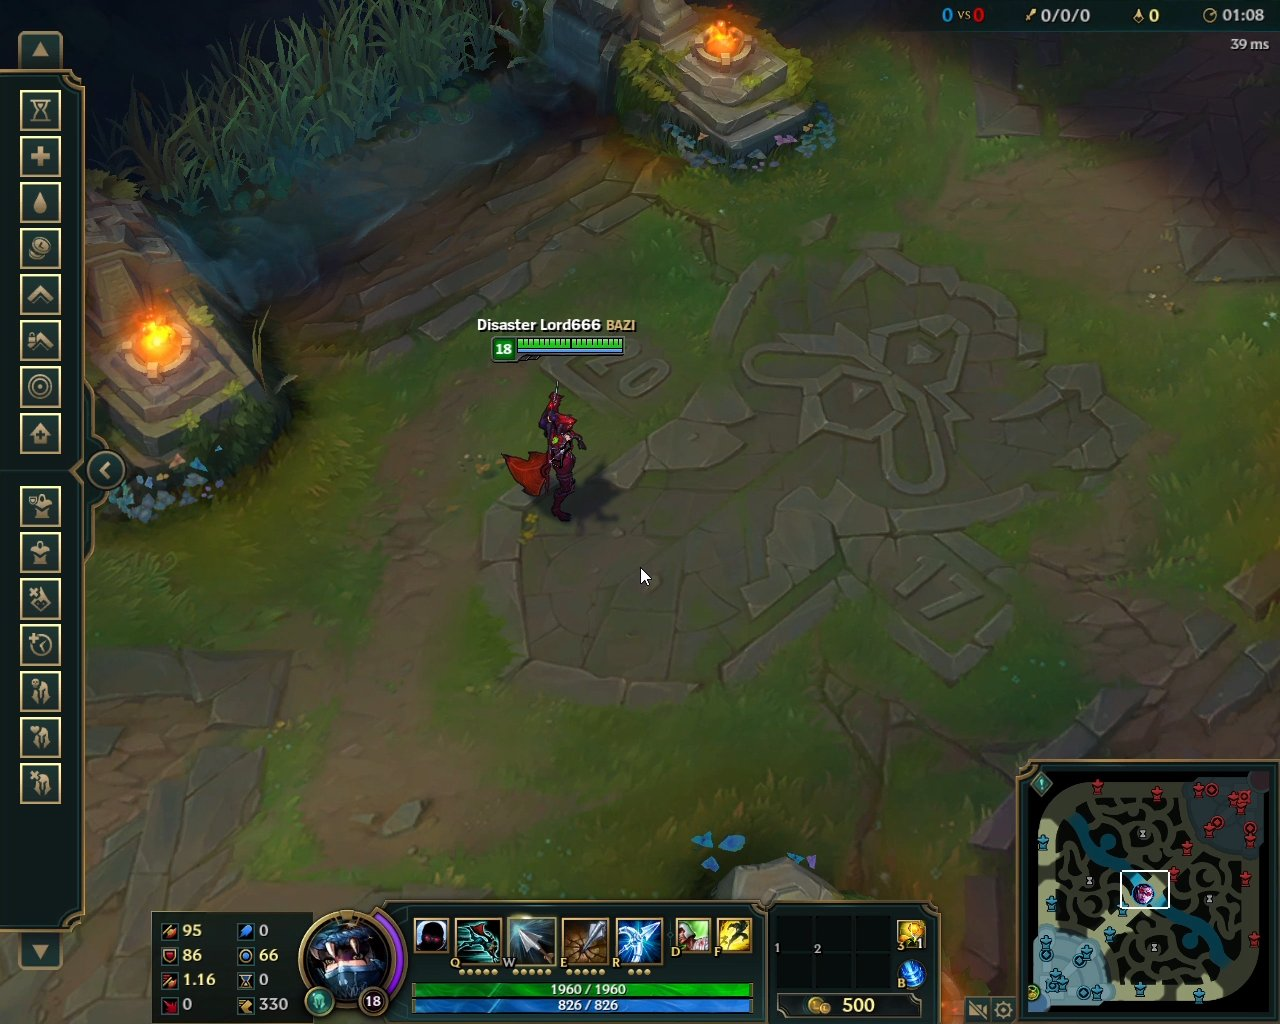Vayne: (498, 373, 594, 529)
